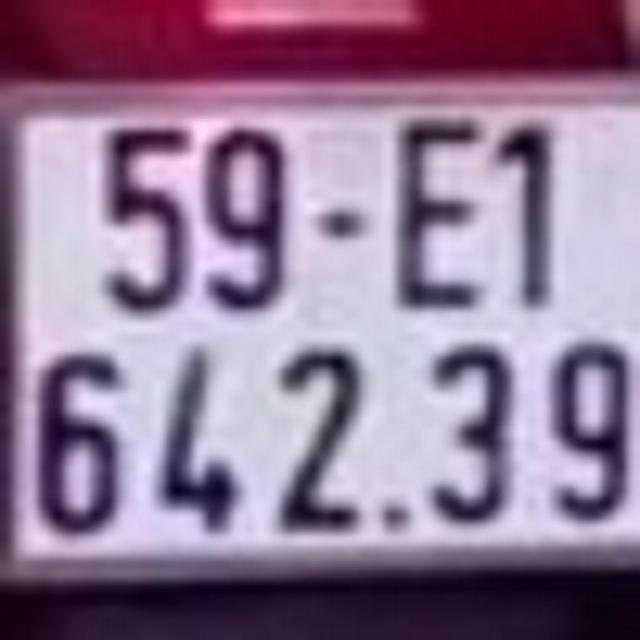1: (503, 121, 562, 306)
2: (262, 353, 365, 528)
3: (422, 334, 509, 526)
4: (158, 344, 244, 544)
5: (104, 121, 190, 313)
6: (36, 351, 119, 539)
9: (202, 125, 293, 314), (550, 338, 629, 529)
E: (399, 114, 489, 325)
